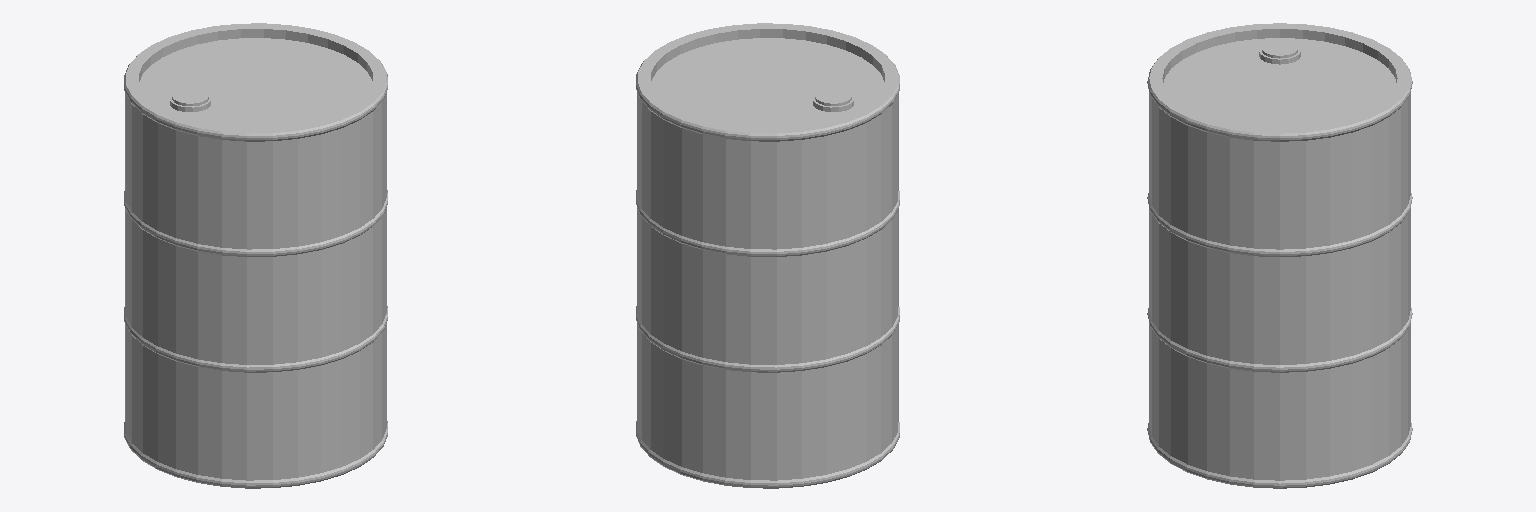
Rendered from Drum.obj.
3 views of the same model, side by side, from view 1: azimuth 30°, elevation 25°; view 2: azimuth 150°, elevation 25°; view 3: azimuth 270°, elevation 25° (orthographic).
Parts seen in each view (by area): view 1: Drum; view 2: Drum; view 3: Drum.
Part boxes in pixels (x1,y1,x2,y2): Drum: (124, 23, 387, 488); Drum: (636, 23, 899, 488); Drum: (1147, 23, 1412, 488).
Bounding box in the file's own units: 2.64 × 3.89 × 2.64.